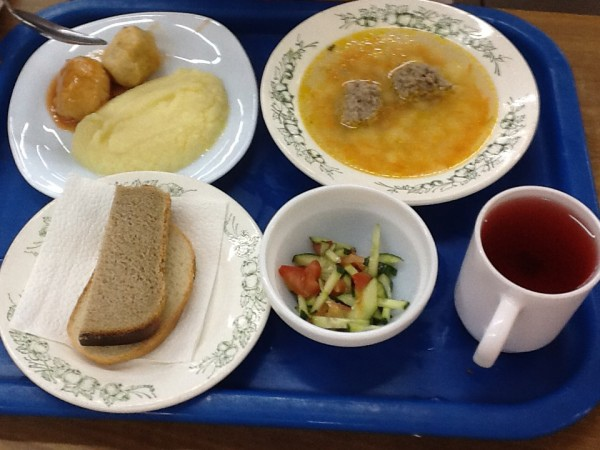bowl: (259, 1, 545, 205), (259, 184, 438, 353)
drink: (456, 182, 600, 372)
other: (62, 180, 199, 366)
plate: (1, 172, 269, 414), (7, 15, 259, 197)
